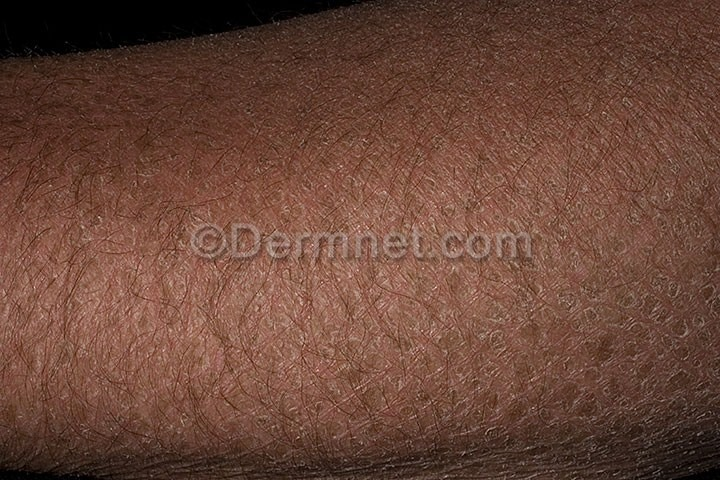Eczema: (7, 54, 720, 458), (443, 4, 668, 44)
